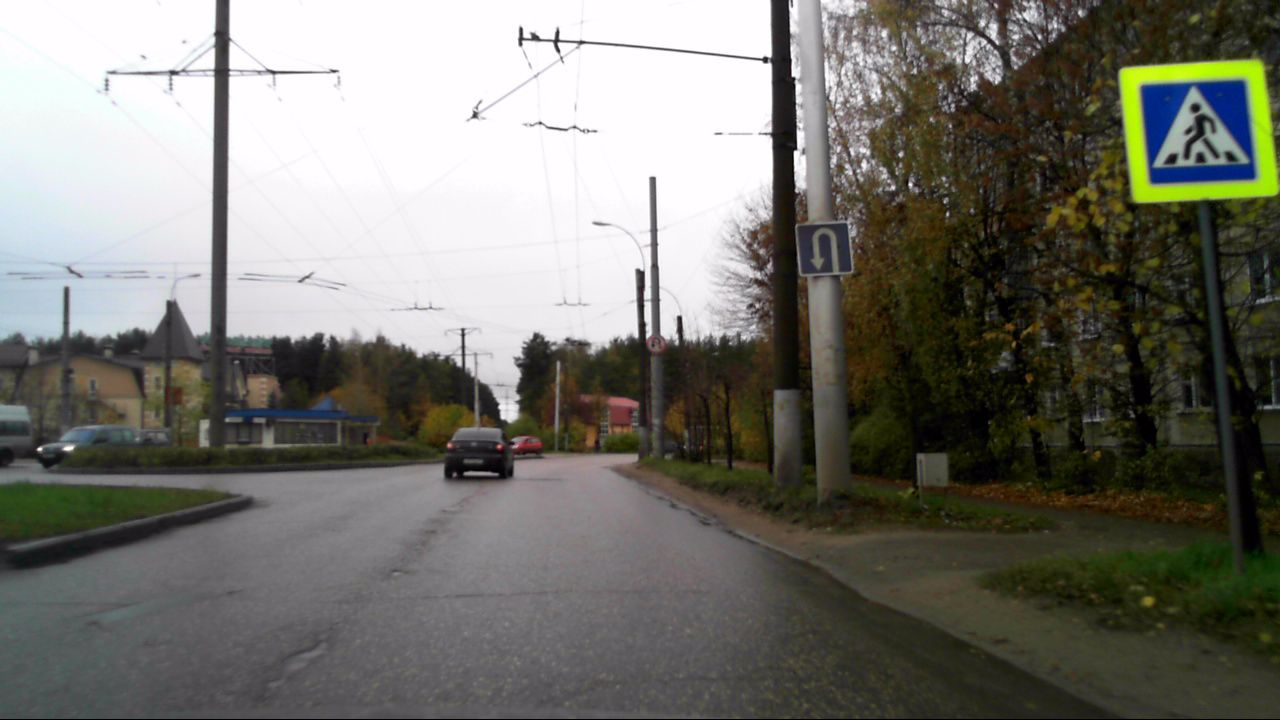Pedestrian Crossing: (1139, 80, 1259, 184)
U-turn: (797, 225, 850, 274)
